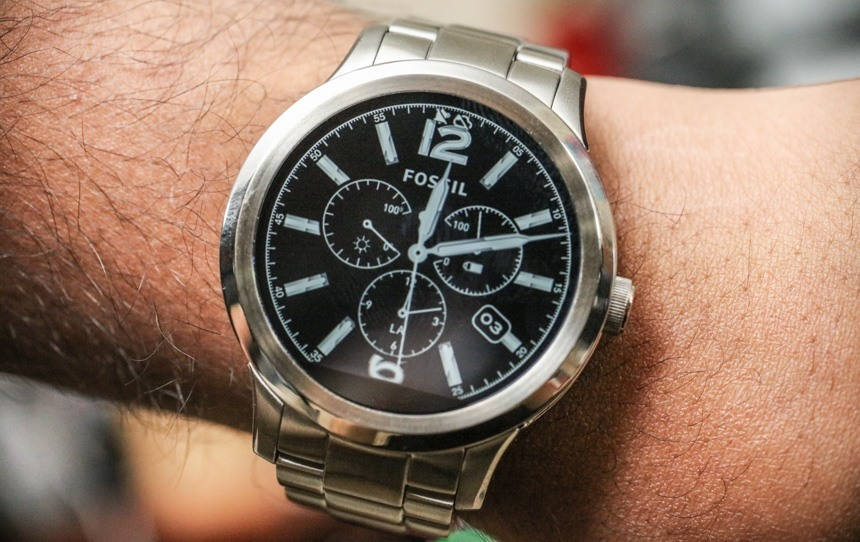clock: (218, 58, 623, 459)
